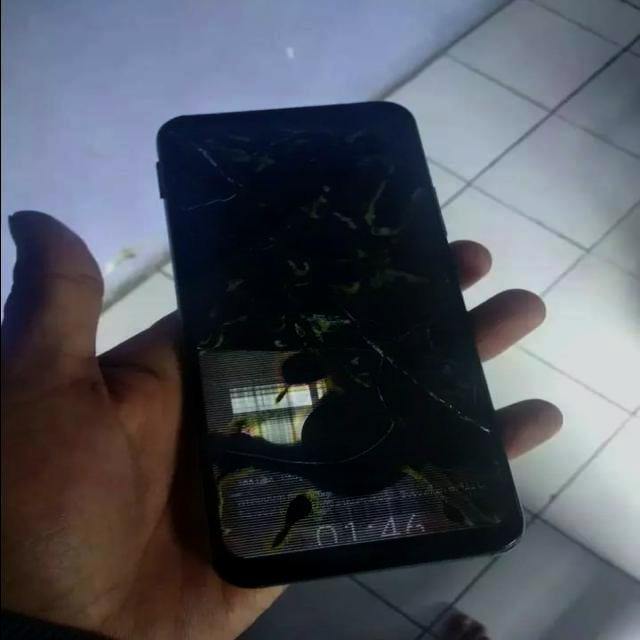phone: (154, 120, 524, 553)
